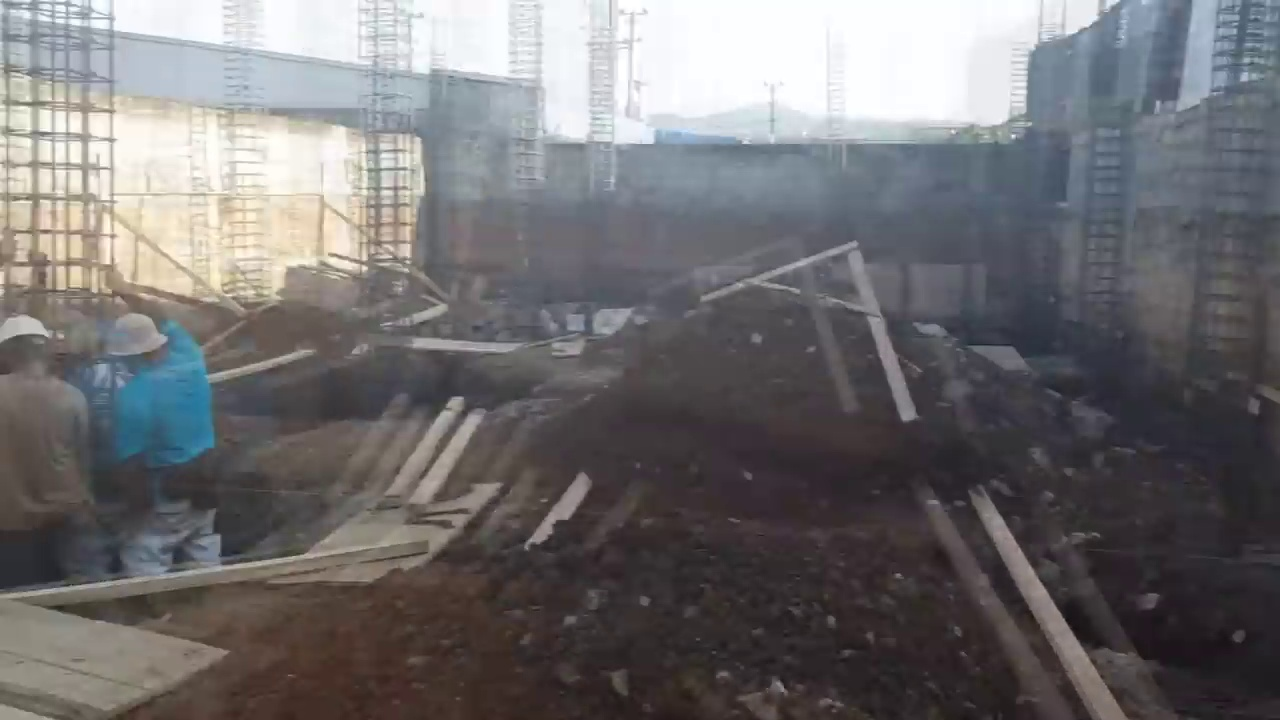helmet: (0, 315, 49, 349)
helmet-off: (97, 314, 158, 374)
helmet-on: (0, 314, 54, 380)
person: (92, 311, 224, 629), (0, 315, 96, 586)
